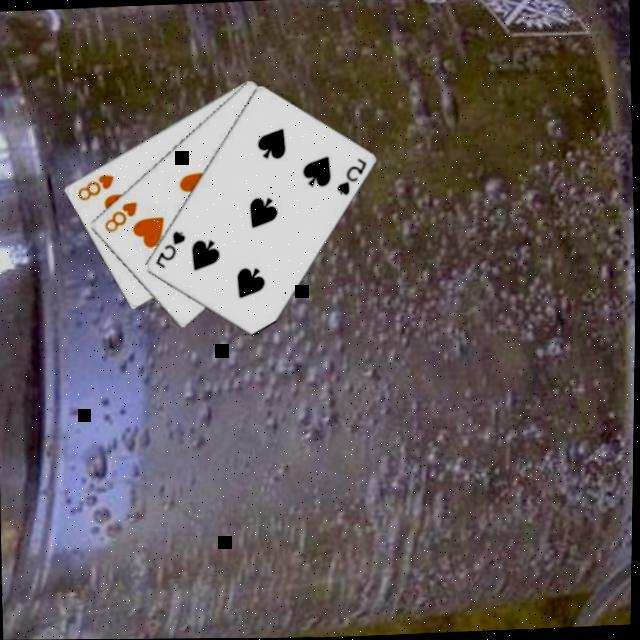5S: (150, 226, 188, 270), (331, 154, 369, 198)
8H: (71, 169, 116, 203), (98, 197, 138, 234)
